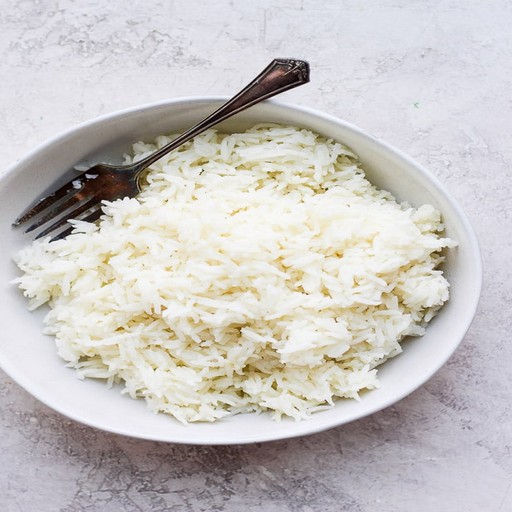rice: (170, 193, 347, 392)
